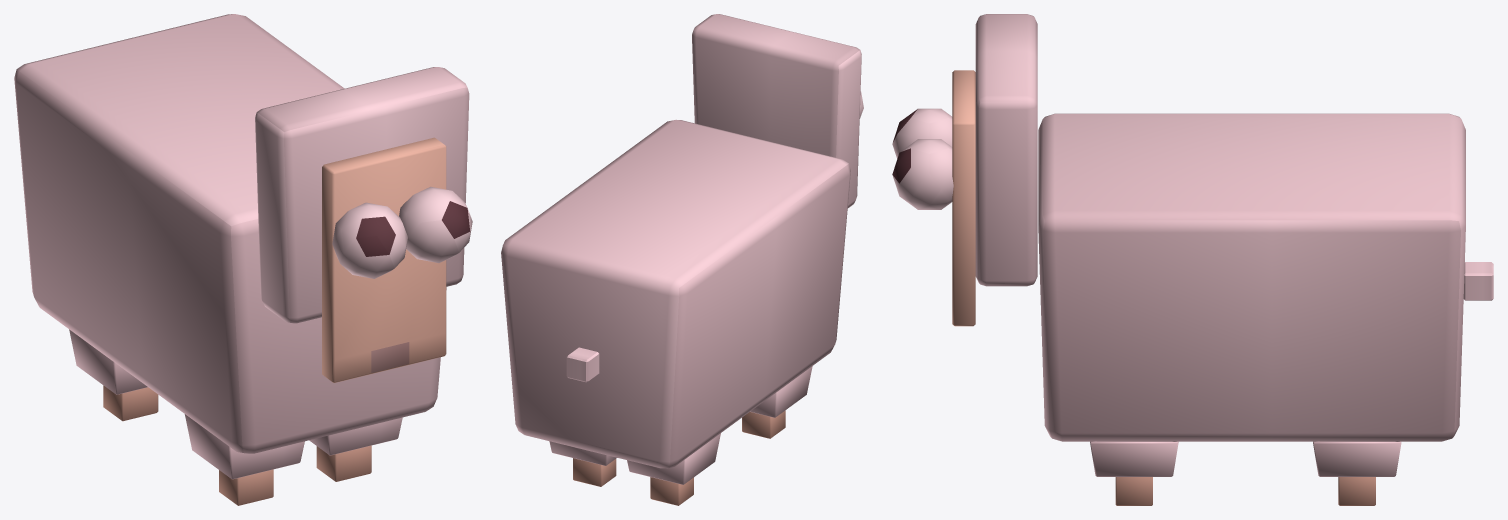
The model's file is Sheep.glb.
3 views of the same model, side by side, from view 1: azimuth 30°, elevation 25°; view 2: azimuth 150°, elevation 25°; view 3: azimuth 270°, elevation 25° (orthographic). The views are drawn at different scales.
Parts seen in each view (by area): view 1: Cube.027, Cube.026, Cube.034, Cube.032, Cube.033; view 2: Cube.027, Cube.026, Cube.033, Cube.035, Cube.032; view 3: Cube.027, Cube.026, Cube.034, Cube.035.
Boxes of the visible parts, x1,y1,x2,y2 form: Cube.027: [14, 14, 446, 479]; Cube.026: [255, 67, 472, 382]; Cube.034: [316, 445, 371, 481]; Cube.032: [219, 469, 273, 505]; Cube.033: [103, 385, 158, 421]; Cube.027: [501, 119, 850, 484]; Cube.026: [692, 14, 863, 208]; Cube.033: [650, 477, 693, 505]; Cube.035: [573, 458, 616, 486]; Cube.032: [742, 410, 785, 438]; Cube.027: [1038, 113, 1493, 476]; Cube.026: [892, 14, 1037, 326]; Cube.034: [1115, 477, 1152, 505]; Cube.035: [1338, 477, 1375, 505].
Size of the model in its own units: 1 by 1.79 by 2.32.
1 material, 1 textured.
